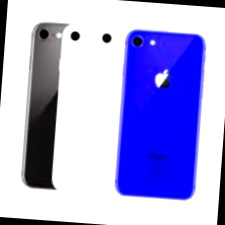iphone: (106, 36, 206, 211)
